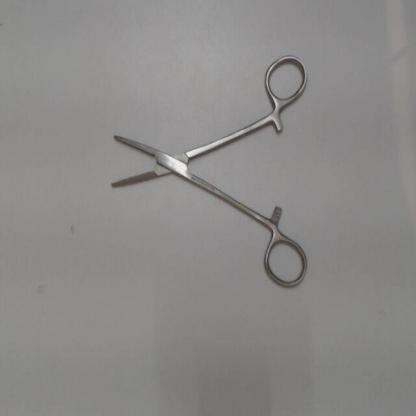Mayo Needle Holder: (104, 46, 312, 292)
